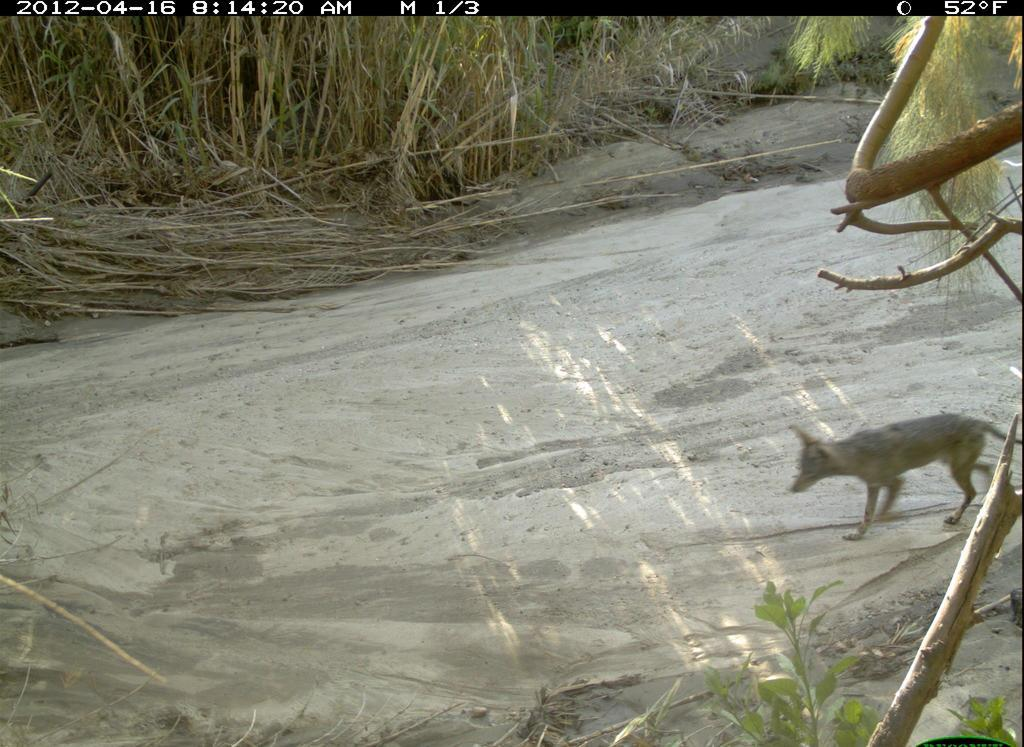coyote: (786, 410, 1021, 546)
